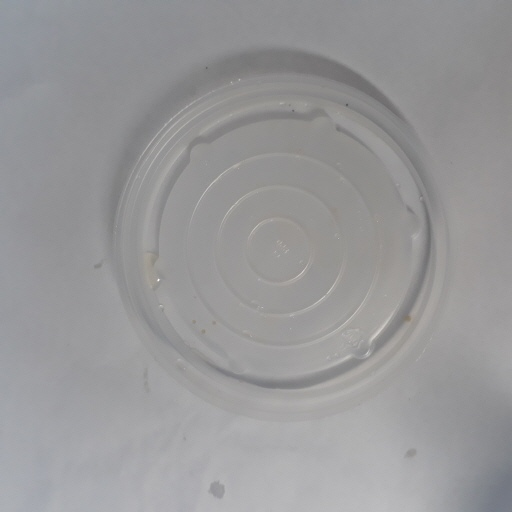Plastic_5: (104, 70, 448, 416)
